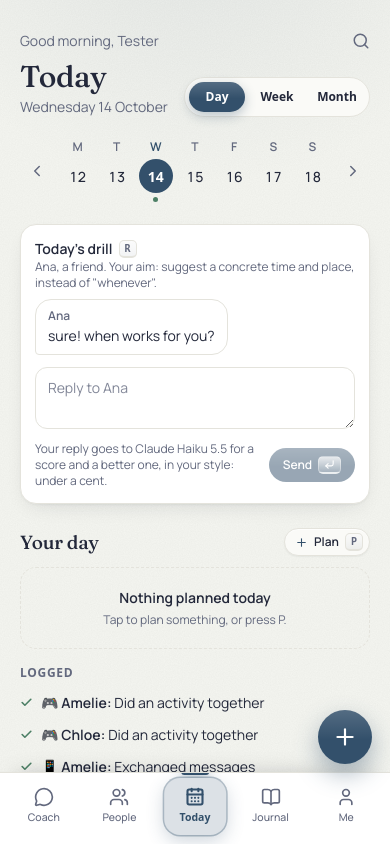
Test: a conversation in person › the Journal offers it on a conversation in person logged without a review, for everyone in that log
Click the button "Journal".
click(271, 807)  # box [233,781,308,832]
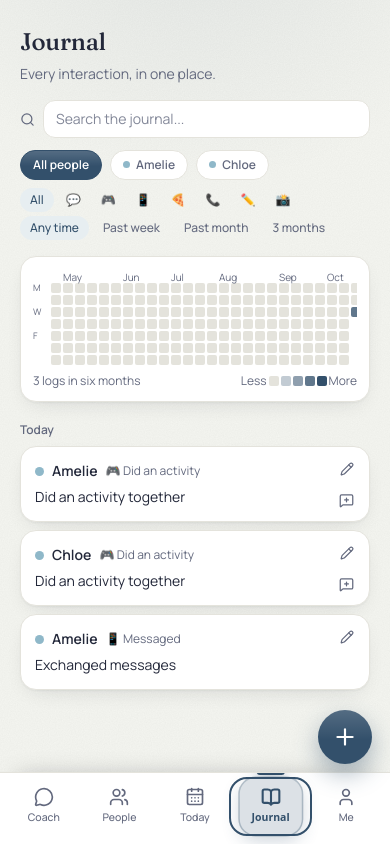
expect the number of buttons named "Tell Claude what was said" is 2: met
Click the button named "Tell Claude what was said: Chloe".
click(346, 584)  # box [333,571,360,598]
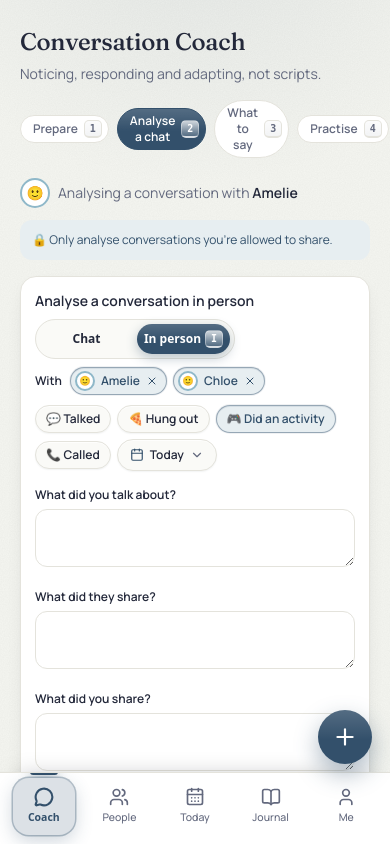
expect the element named "Who it's with" reads "With 🙂 Amelie 🙂 Chloe": met, box [35,367,265,395]
